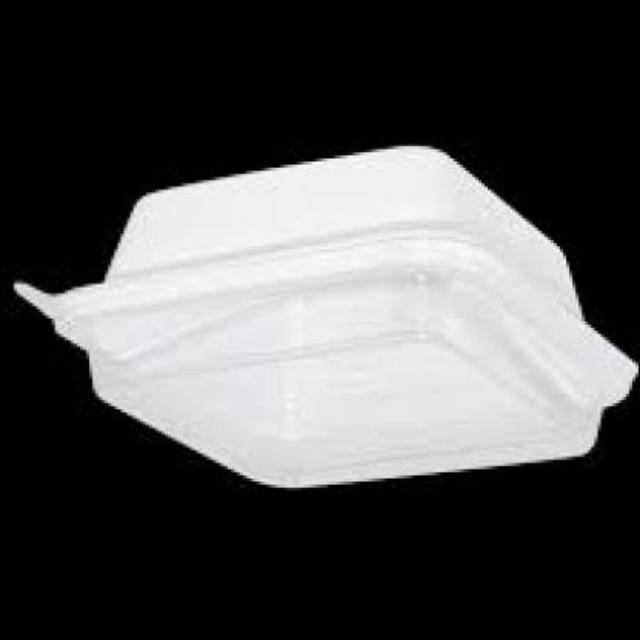plastic_box: (12, 140, 638, 488)
